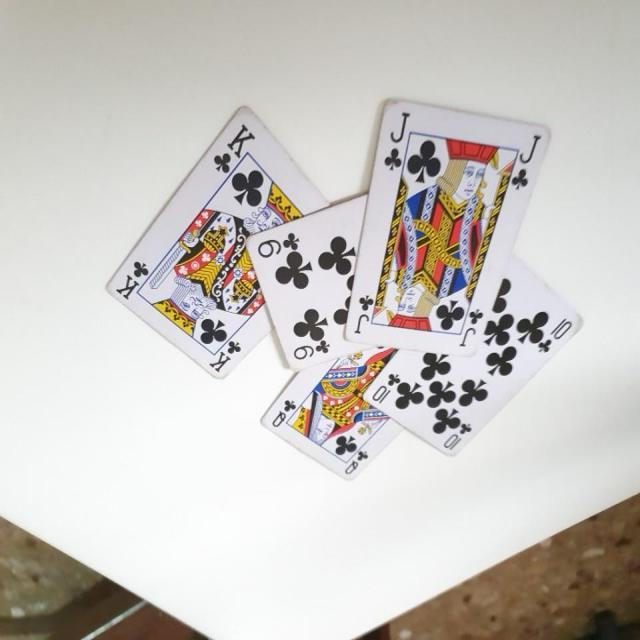10 of clubs: (362, 246, 582, 459)
9 of clubs: (246, 194, 380, 374)
jack of clubs: (344, 102, 554, 359)
king of clubs: (102, 106, 332, 382)
queen of clubs: (258, 342, 404, 480)
